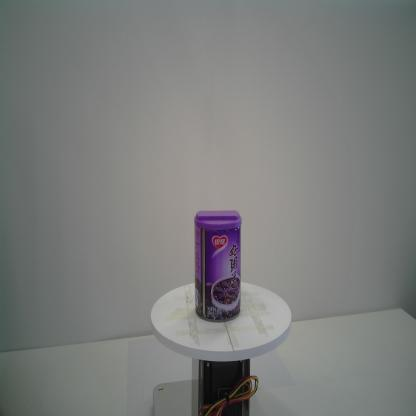Canned Food: (194, 209, 242, 323)
